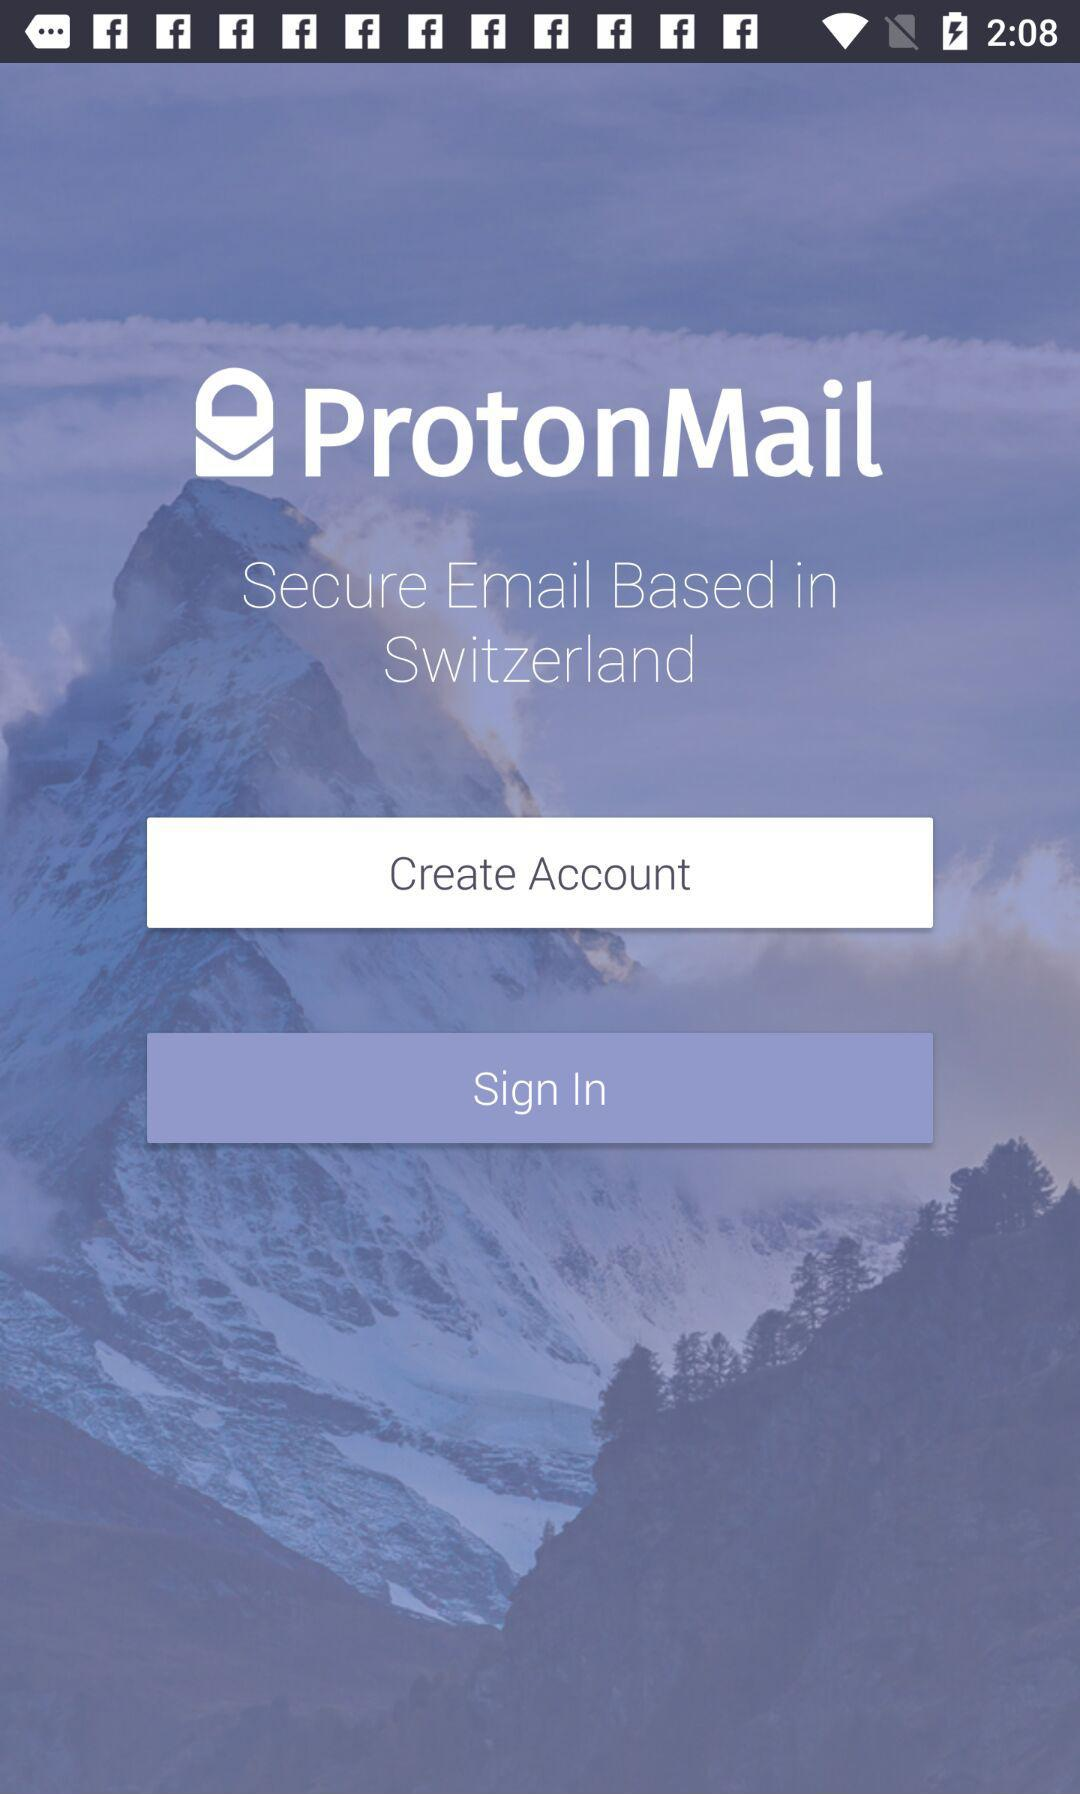BackgroundImage: (1, 64, 1080, 1794)
Image: (196, 366, 884, 479)
Text: (242, 560, 837, 686)
TextButton: (147, 1033, 934, 1144), (147, 818, 934, 929)
UpperTaskBar: (1, 1, 1080, 64)
